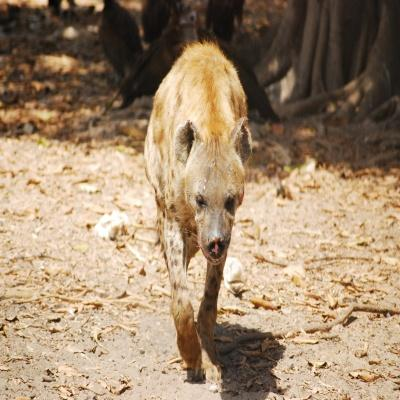hyenas: (110, 32, 299, 399)
